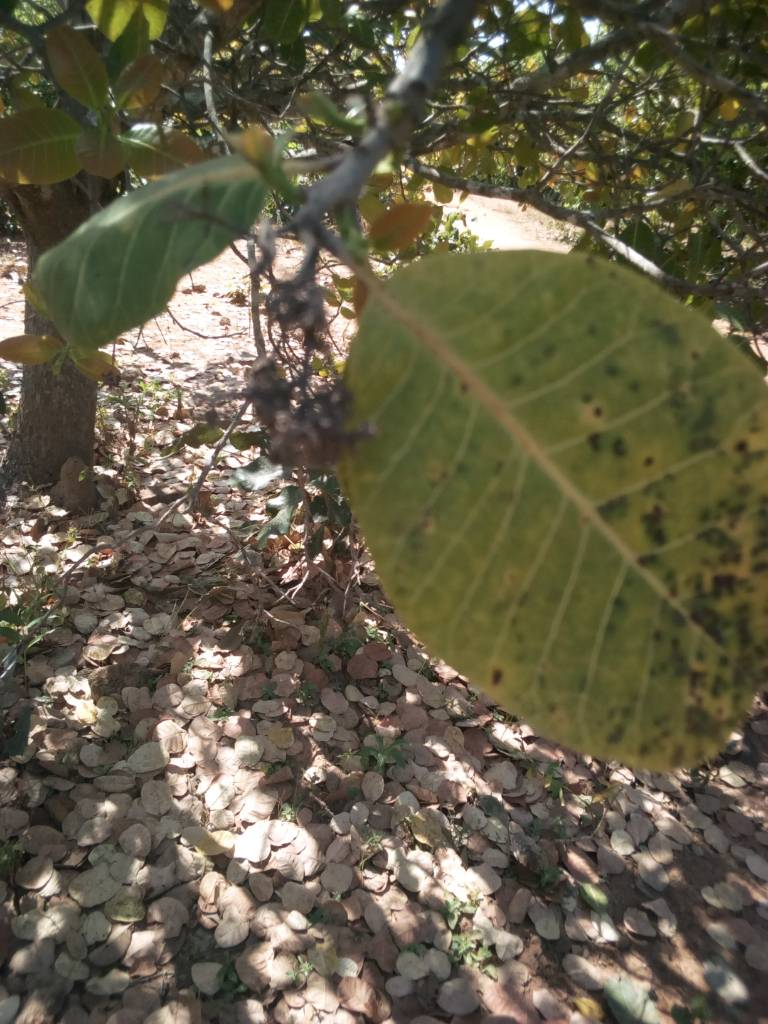Anthracnose: (343, 264, 768, 774)
